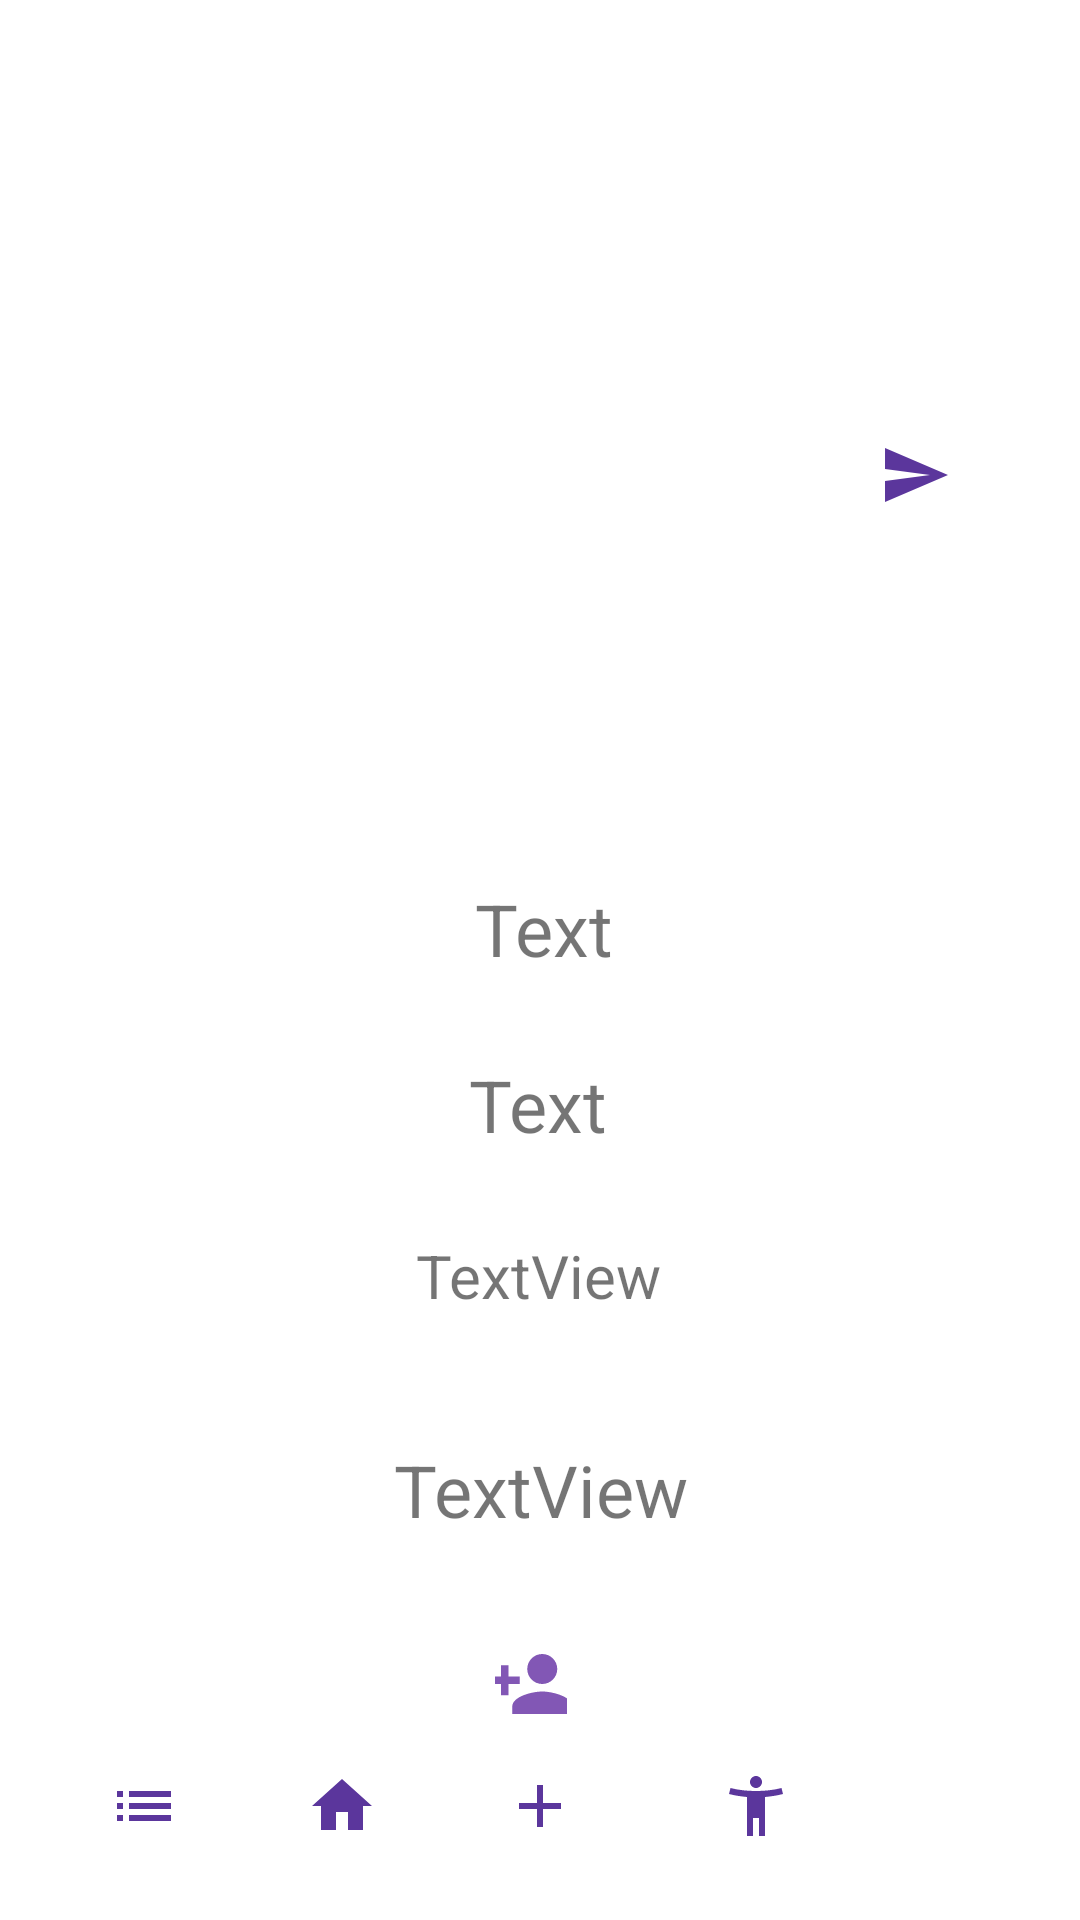

Screen size 1080*1920. Icon name, then its box in pixels as (x1, y1, x2, y2):
feed: (117, 1791, 171, 1821)
home: (312, 1779, 372, 1830)
message: (885, 448, 948, 502)
